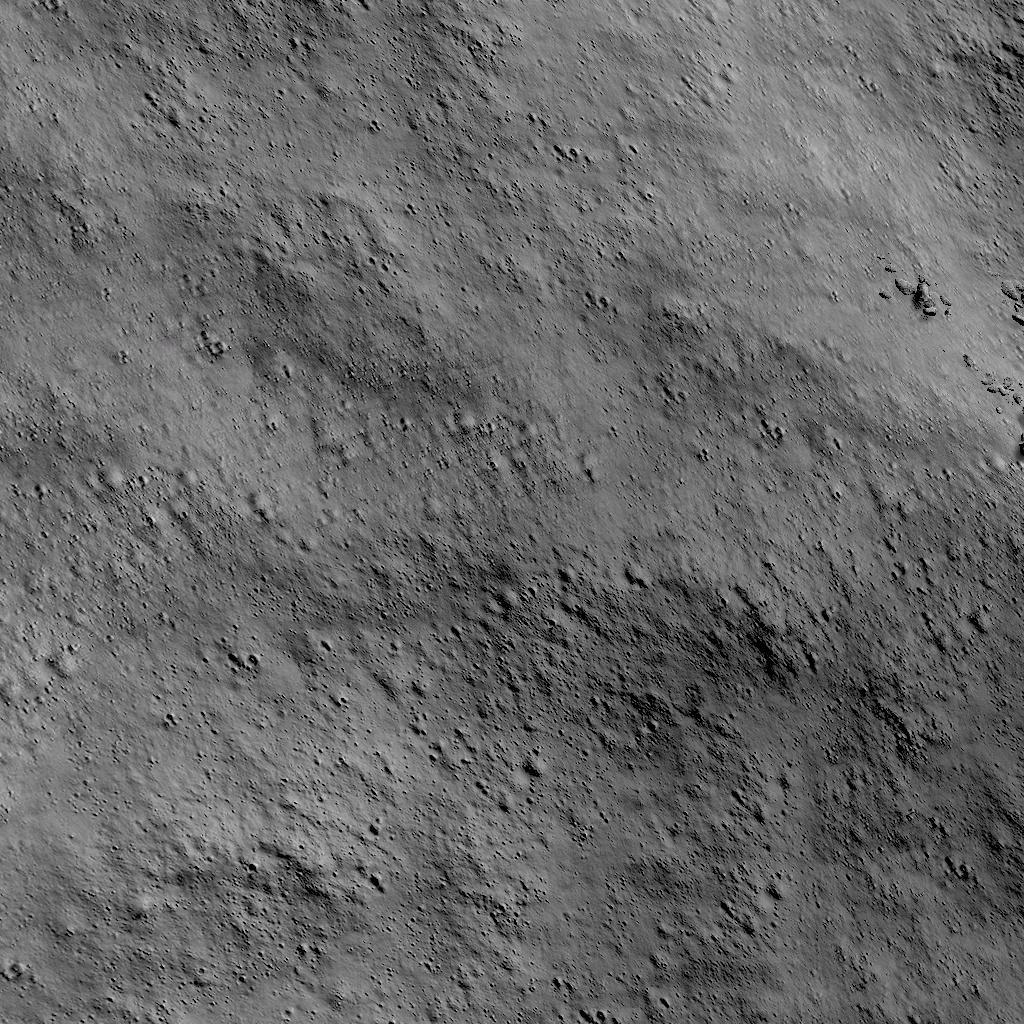Plan surface: (0, 3, 874, 1024)
